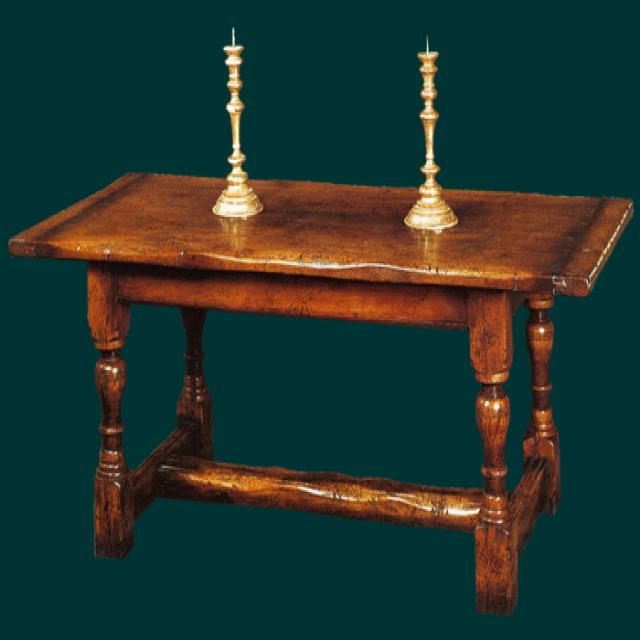table: (7, 170, 634, 627)
